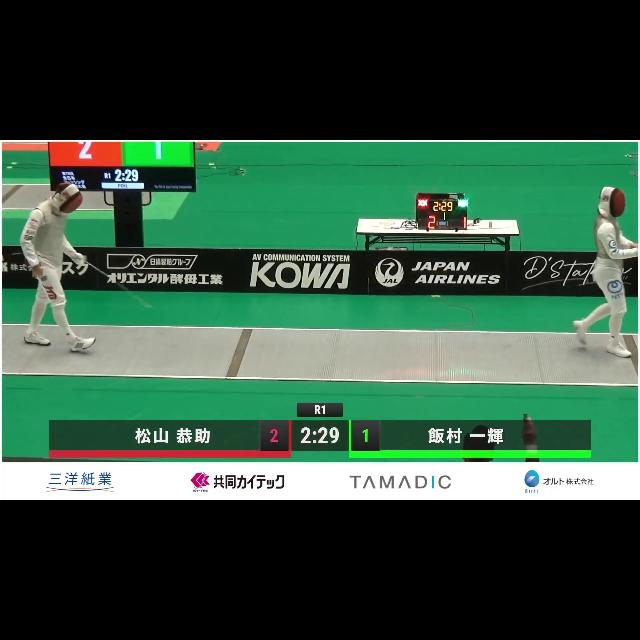blade: (74, 255, 164, 315)
